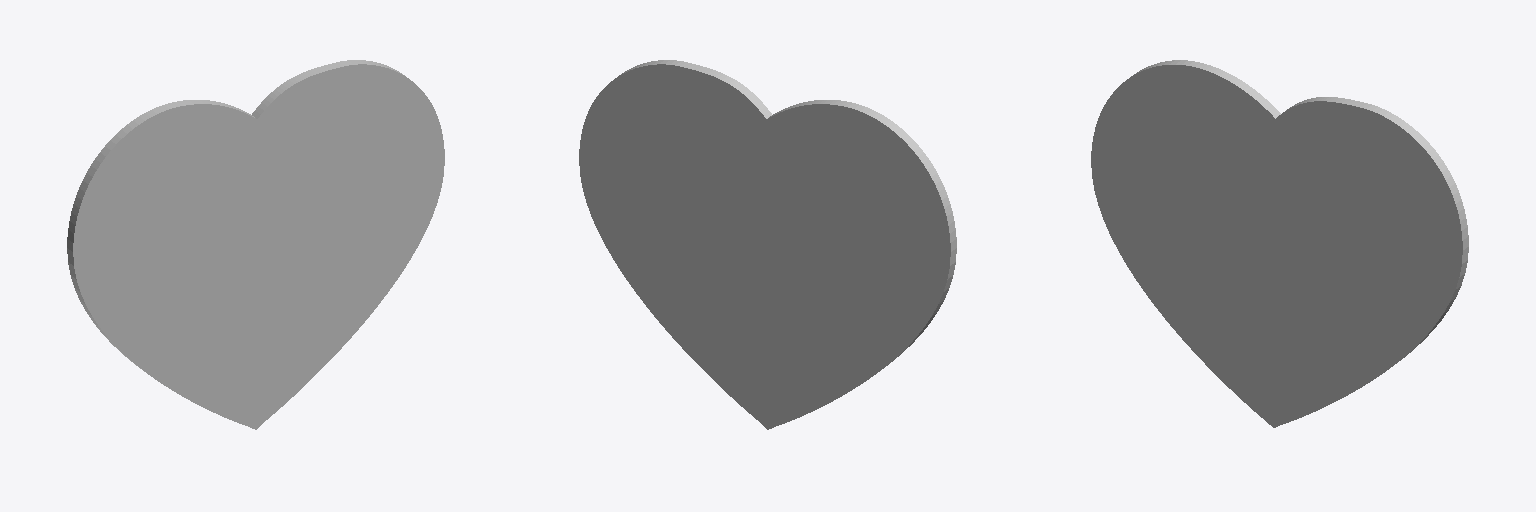
File: favorite_heart.obj
The picture shows the model from 3 angles: view 1: azimuth 30°, elevation 25°; view 2: azimuth 150°, elevation 25°; view 3: azimuth 330°, elevation 25°; orthographic projection.
Parts seen in each view (by area): view 1: favorite_heart:typeMesh1 favorite_heart:polySurface1; view 2: favorite_heart:typeMesh1 favorite_heart:polySurface1; view 3: favorite_heart:typeMesh1 favorite_heart:polySurface1.
Part boxes in pixels (x1,y1,x2,y2): favorite_heart:typeMesh1 favorite_heart:polySurface1: (67,60,444,429); favorite_heart:typeMesh1 favorite_heart:polySurface1: (579,60,956,429); favorite_heart:typeMesh1 favorite_heart:polySurface1: (1091,60,1468,427).
Size of the model in its own units: 17.56 by 15.44 by 0.5.